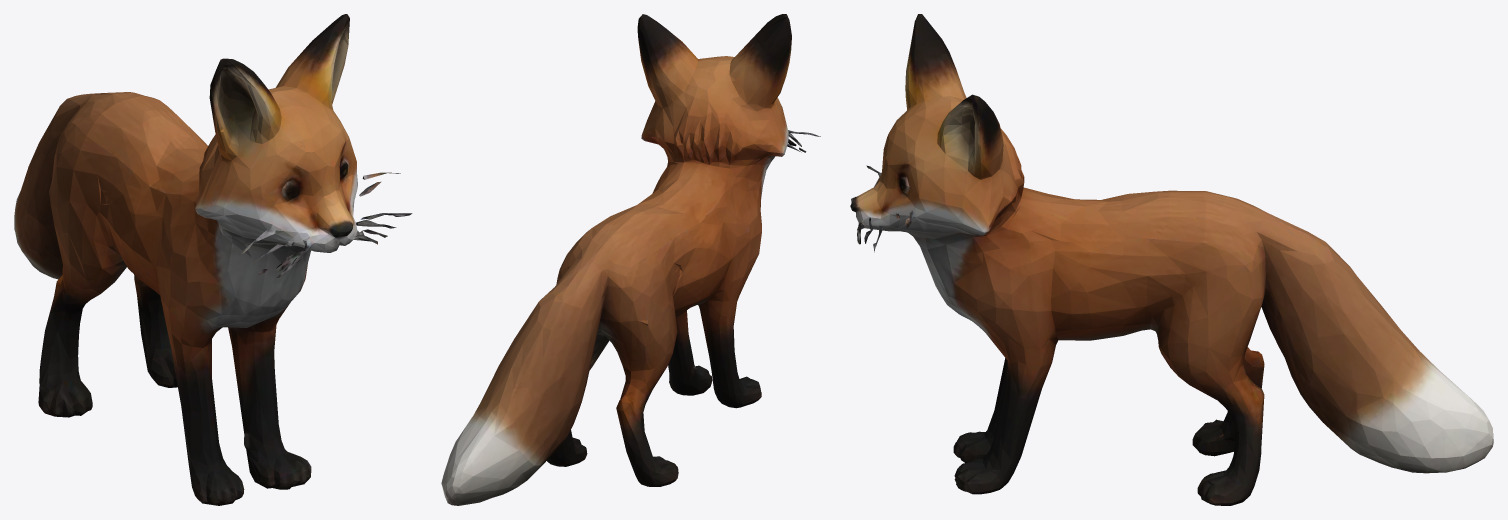
File: red_fox.glb
3 views of the same model, side by side, from view 1: azimuth 30°, elevation 25°; view 2: azimuth 150°, elevation 25°; view 3: azimuth 270°, elevation 25° (orthographic). The views are drawn at different scales.
Parts seen in each view (by area): view 1: geometry_0; view 2: geometry_0; view 3: geometry_0.
Part boxes in pixels (x1,y1,x2,y2): geometry_0: (14,14,412,505); geometry_0: (441,14,820,505); geometry_0: (850,14,1493,505).
Bounding box in the file's own units: 0.3169 × 0.7441 × 0.9981.
1 material, 1 textured.
